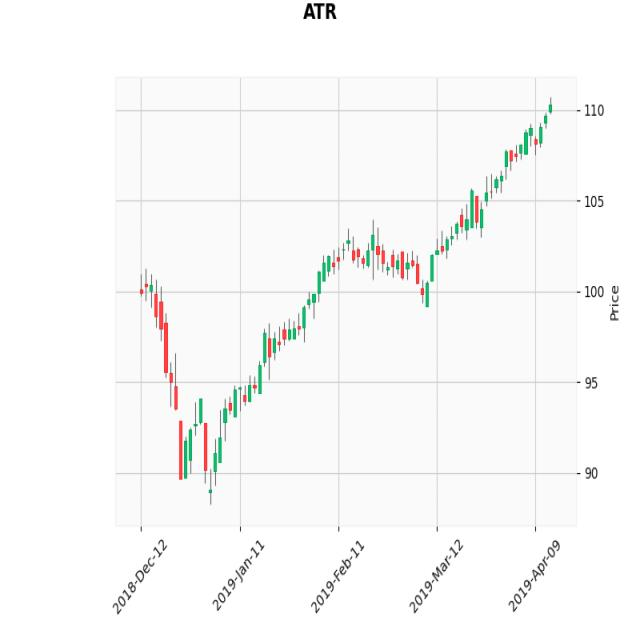Double-Bottom: (165, 365, 238, 501)
